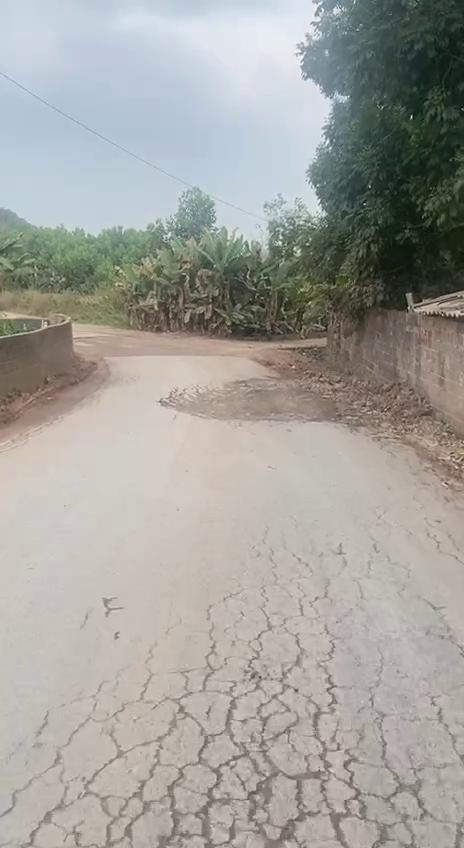pothole: (164, 370, 345, 421)
